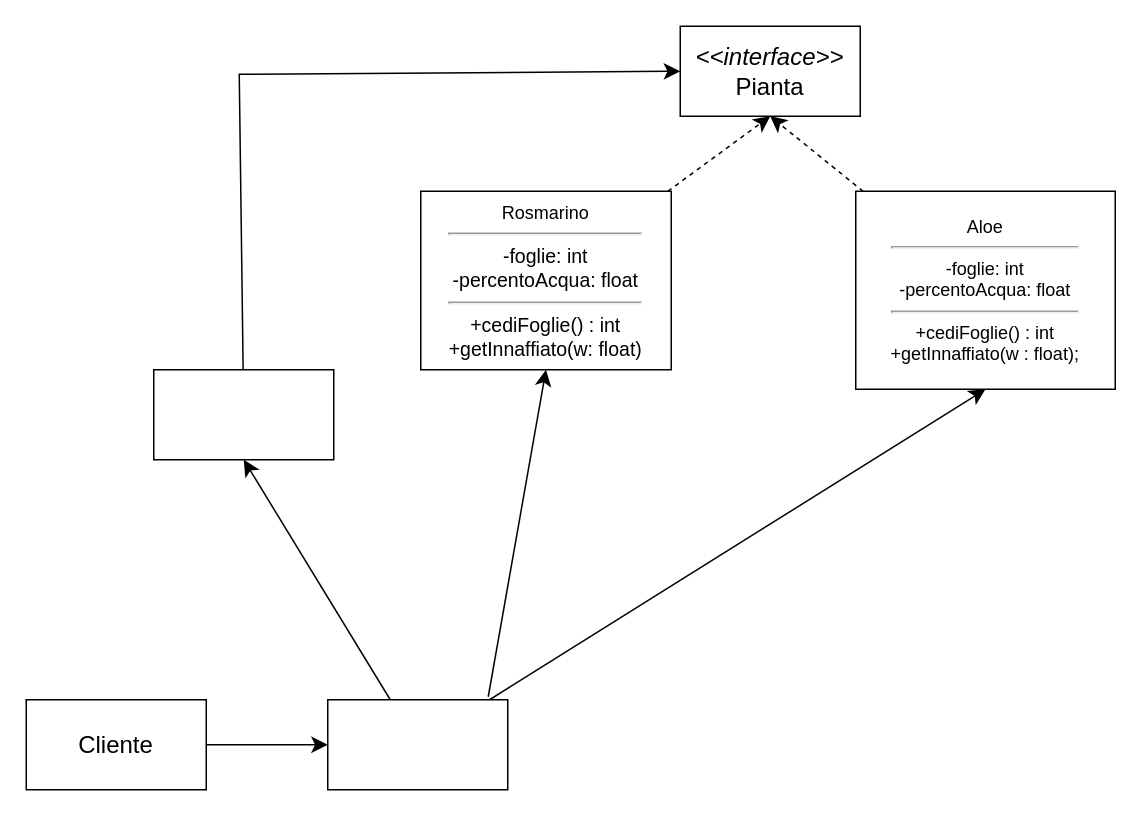
The diagram is 1142 pixels wide and 816 high, and some of its shapes have lost their labels. Here are the shapes that lost their labels. From the top down, the box of each, then its label:
(152, 368, 334, 460): Giardiniere innaffiaPianta(); raccogli();
(326, 698, 508, 790): Creatore creaPianta(); creaGiardiniere();
